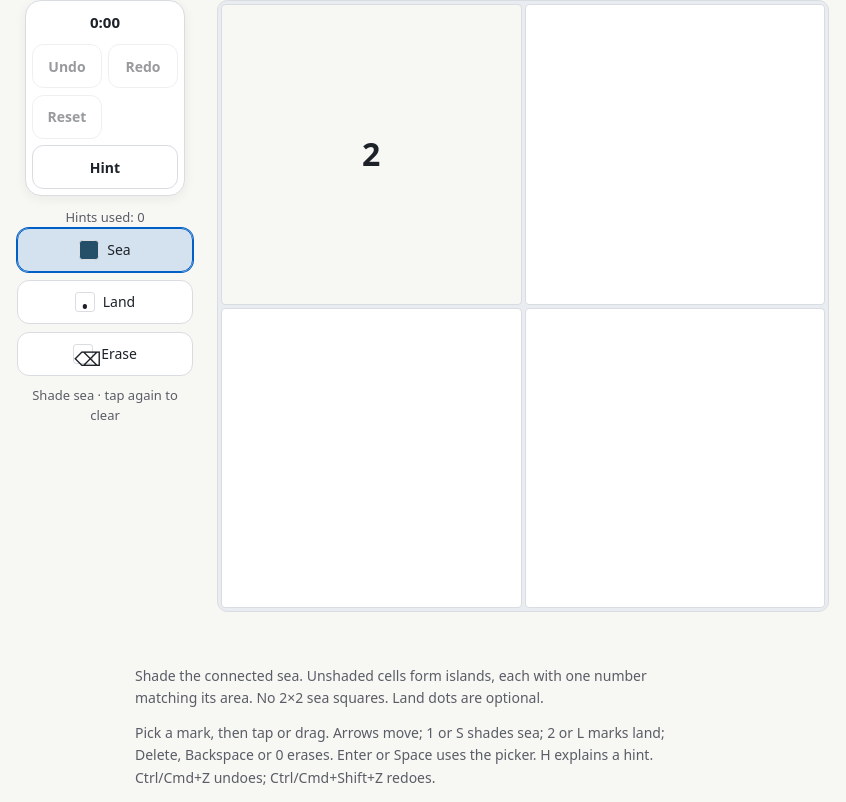
Scenario: reveals nothing and charges nothing when the solution cannot be verified
Click the button "Hint" at (105, 167), box left=32, top=145, right=178, bottom=189
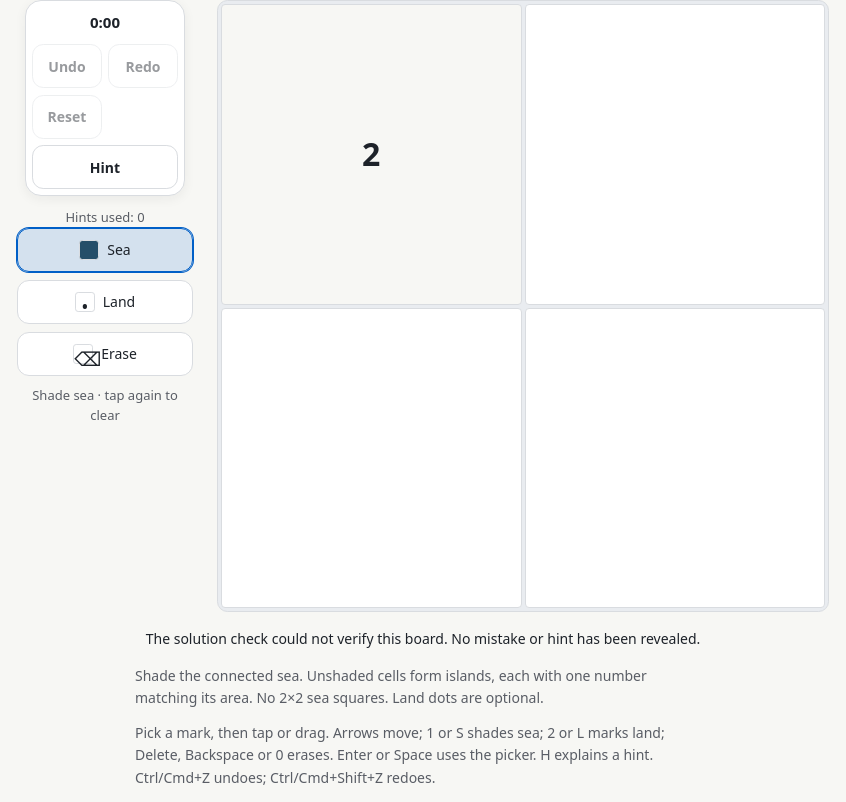
Expected: the text "Hints used: 0" is shown, left=65, top=208, right=145, bottom=226
Result: the text "The solution check could not verify this board" is shown at left=146, top=629, right=700, bottom=648
